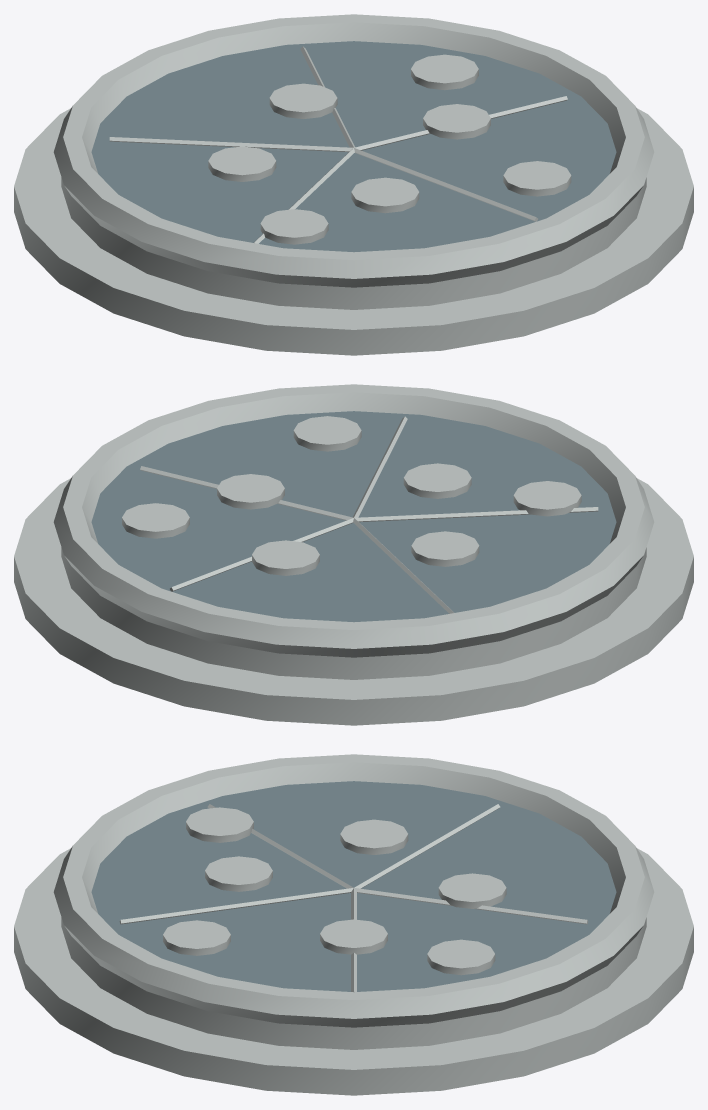
Rendered from pizza.glb.
3 renders of one model, top to bottom at view 1: azimuth 30°, elevation 25°; view 2: azimuth 150°, elevation 25°; view 3: azimuth 270°, elevation 25°, orthographic.
Visible parts, largest first — view 1: cheese_layer, rolled_crust, serving_board, pizza_base, pepperoni_04, pepperoni_03, pepperoni_06, pepperoni_01, pepperoni_02, pepperoni_05, pepperoni_00, slice_score_3 (+2 smaller); view 2: cheese_layer, rolled_crust, serving_board, pizza_base, pepperoni_04, pepperoni_06, pepperoni_03, pepperoni_05, pepperoni_02, pepperoni_00, pepperoni_01, slice_score_2 (+4 smaller); view 3: cheese_layer, rolled_crust, serving_board, pizza_base, pepperoni_05, pepperoni_04, pepperoni_06, pepperoni_03, pepperoni_00, pepperoni_01, pepperoni_02, slice_score_1 (+3 smaller).
Boxes of the visible parts, x1,y1,x2,y2 form: cheese_layer: [91, 41, 616, 252]; rolled_crust: [53, 14, 654, 287]; serving_board: [14, 108, 693, 355]; pizza_base: [61, 177, 646, 309]; pepperoni_04: [208, 146, 276, 181]; pepperoni_03: [503, 161, 571, 196]; pepperoni_06: [351, 177, 419, 213]; pepperoni_01: [260, 209, 328, 244]; pepperoni_02: [269, 83, 337, 118]; pepperoni_05: [411, 54, 478, 90]; pepperoni_00: [423, 104, 490, 139]; slice_score_3: [109, 137, 353, 152]; cheese_layer: [91, 411, 616, 622]; rolled_crust: [53, 384, 654, 657]; serving_board: [14, 478, 693, 725]; pizza_base: [61, 547, 646, 679]; pepperoni_04: [411, 531, 479, 566]; pepperoni_06: [403, 463, 471, 498]; pepperoni_03: [293, 416, 361, 451]; pepperoni_05: [122, 503, 189, 538]; pepperoni_02: [252, 540, 319, 575]; pepperoni_00: [217, 474, 284, 509]; pepperoni_01: [513, 481, 581, 516]; slice_score_2: [354, 507, 598, 522]; cheese_layer: [91, 781, 616, 991]; rolled_crust: [53, 754, 654, 1027]; serving_board: [14, 848, 693, 1095]; pizza_base: [61, 917, 646, 1049]; pepperoni_05: [427, 939, 495, 975]; pepperoni_04: [340, 819, 408, 854]; pepperoni_06: [205, 856, 272, 891]; pepperoni_03: [163, 920, 230, 955]; pepperoni_00: [320, 919, 387, 954]; pepperoni_01: [186, 807, 253, 842]; pepperoni_02: [438, 873, 506, 908]; slice_score_1: [119, 888, 353, 924].
Size of the model in its own units: 0.36 by 0.0437 by 0.36.
